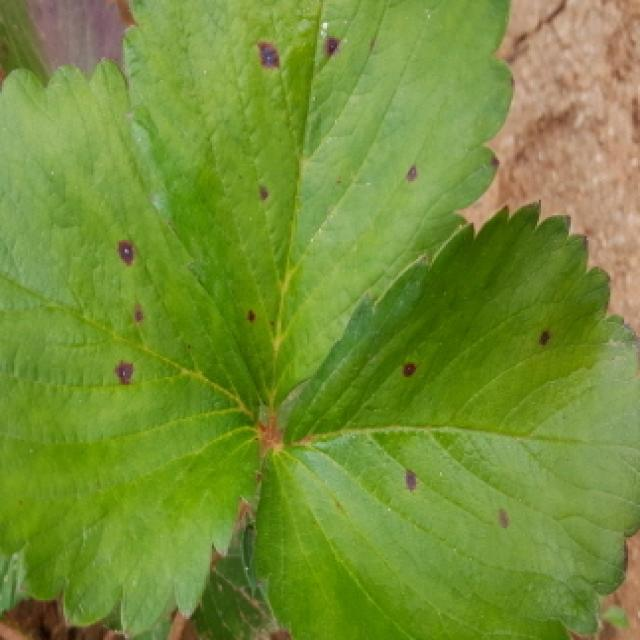Leaf Spot: (245, 199, 640, 640), (119, 0, 517, 422), (0, 58, 270, 638)
